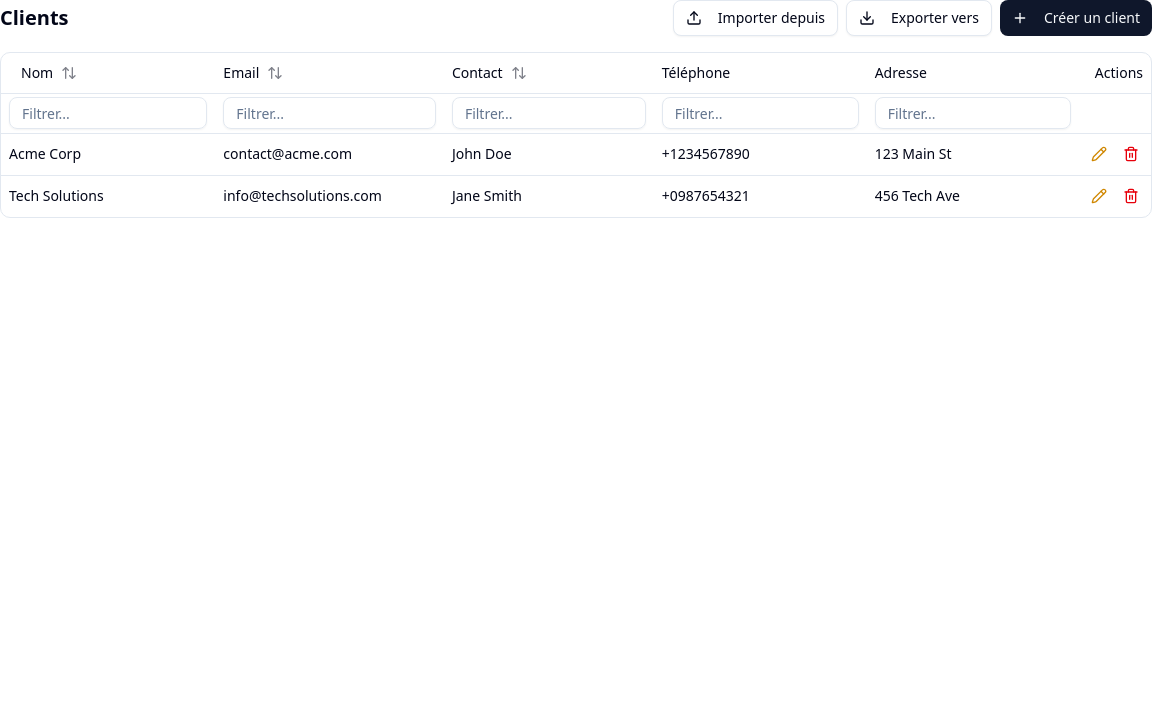
Test case: Customers Component › Edit Customer › should open edit modal when edit button is clicked
Expected: the text "Acme Corp" is shown, 9,144 -> 81,163
Click the button with test id "customer-edit-customer-1". click: (1099, 154)
box: 1087,142 -> 1111,166
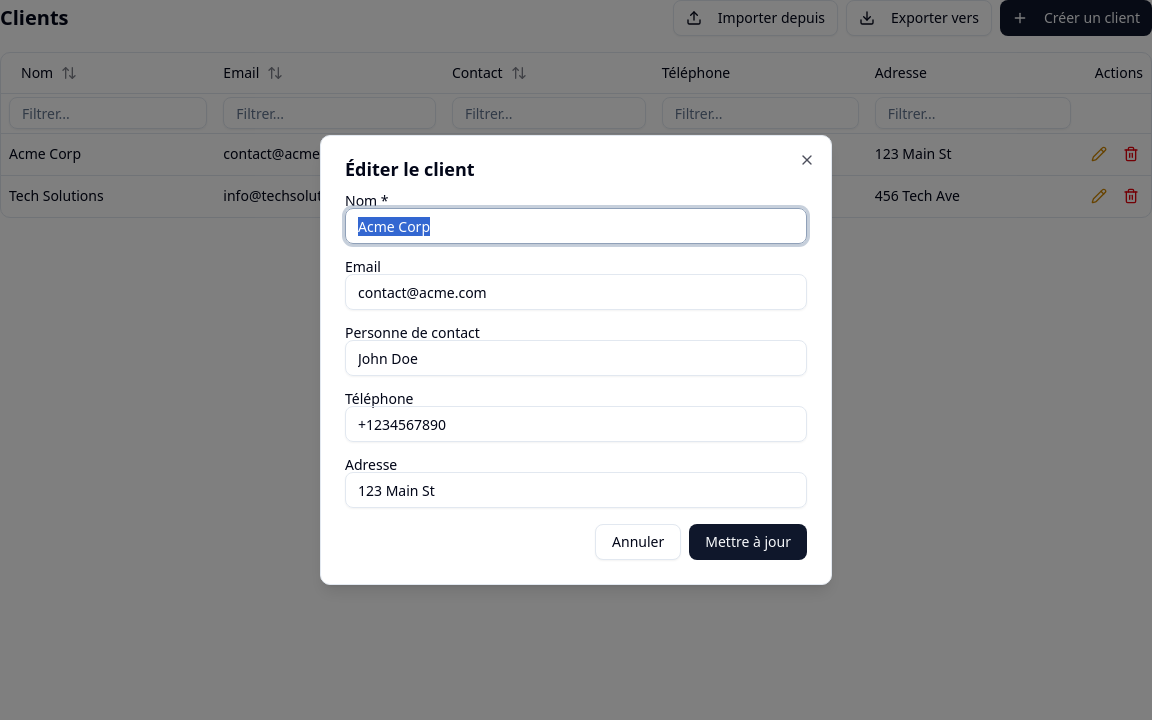
Now the heading "Éditer le client" is shown, box 345,157 -> 475,181
Now the field showing "Acme Corp" is shown, box 345,208 -> 807,244
